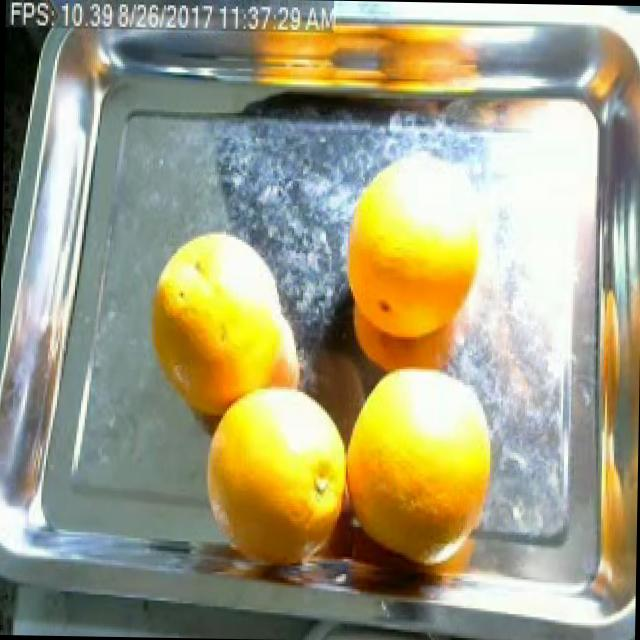Fruit: (136, 215, 308, 424), (0, 557, 29, 635)
